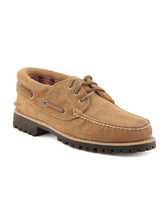shoes: (7, 62, 159, 157)
